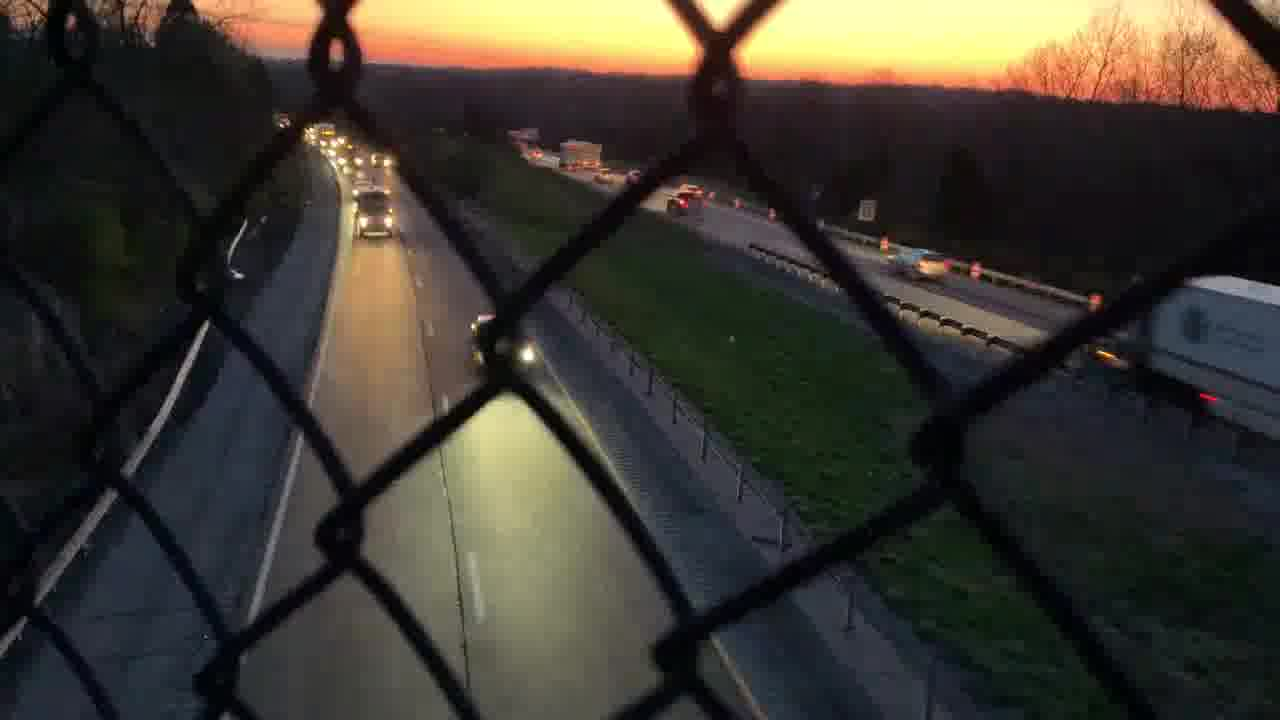heavyTruck: (1075, 279, 1280, 431)
largeCar: (883, 247, 952, 283)
lightTruck: (351, 184, 403, 242)
